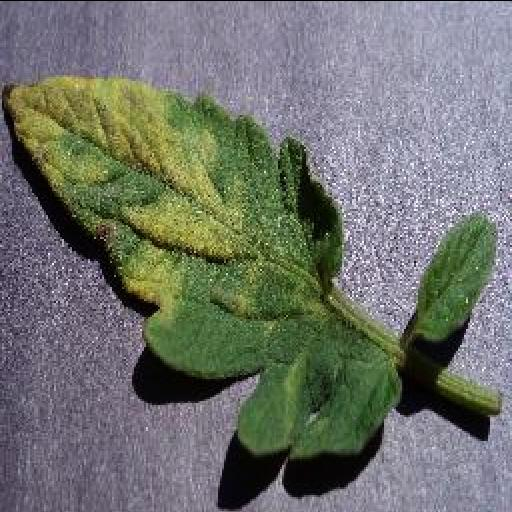disease_tomato: (2, 74, 396, 460)
